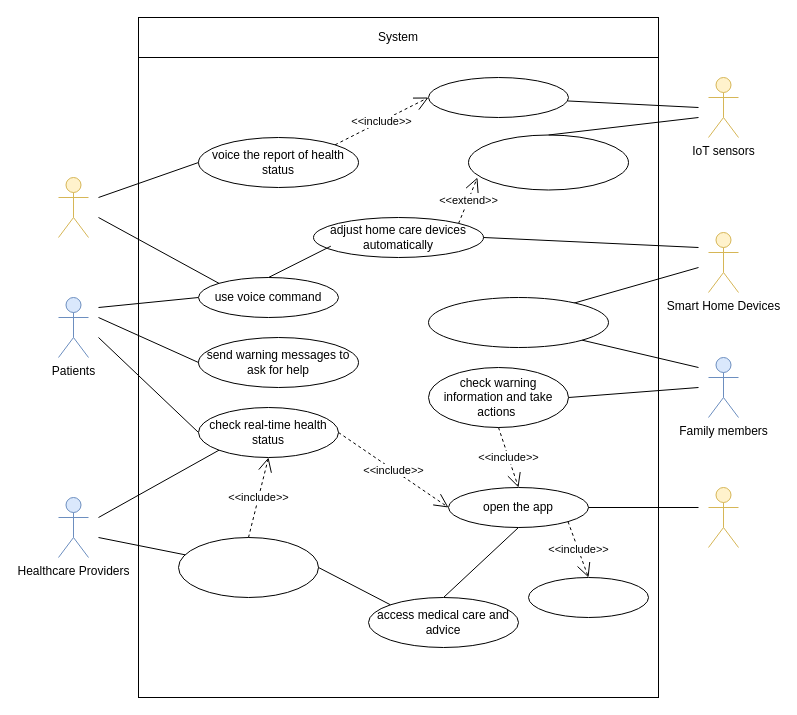
The diagram is 797 pixels wide and 715 high, and some of its shapes have lost their labels. The shapes that lost their labels are listed below. From the top down, each one's centre as x and y in pixels, then its label:
At [498,97]: "collect the health data".
At [548,162]: "monitor environmental conditions such as the temperature".
At [73,207]: "Smart Speaker".
At [518,322]: "monitor and record patients' activities at home".
At [723,517]: "Smartphones".
At [248,567]: "provide professional suggestion".
At [588,597]: "log in".
